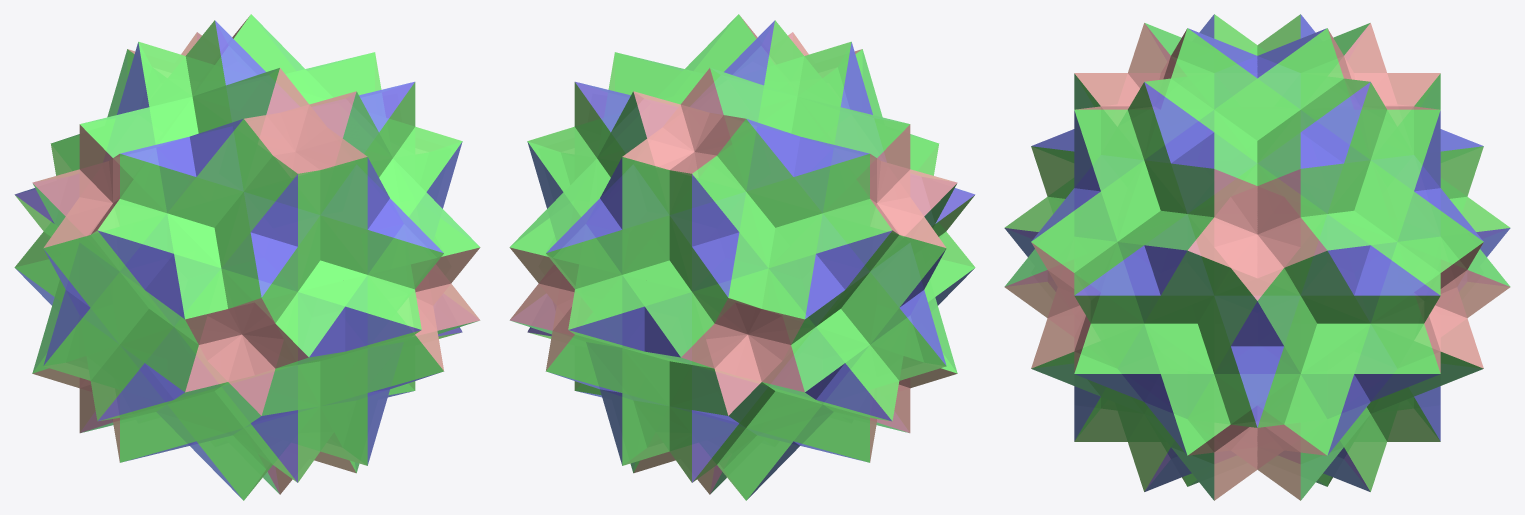
File: GreatDodecicosidodecahedron.obj
3 views of the same model, side by side, from view 1: azimuth 30°, elevation 25°; view 2: azimuth 150°, elevation 25°; view 3: azimuth 270°, elevation 25° (orthographic). The views are drawn at different scales.
Size of the model in its own units: 1.38 by 1.38 by 1.38.
